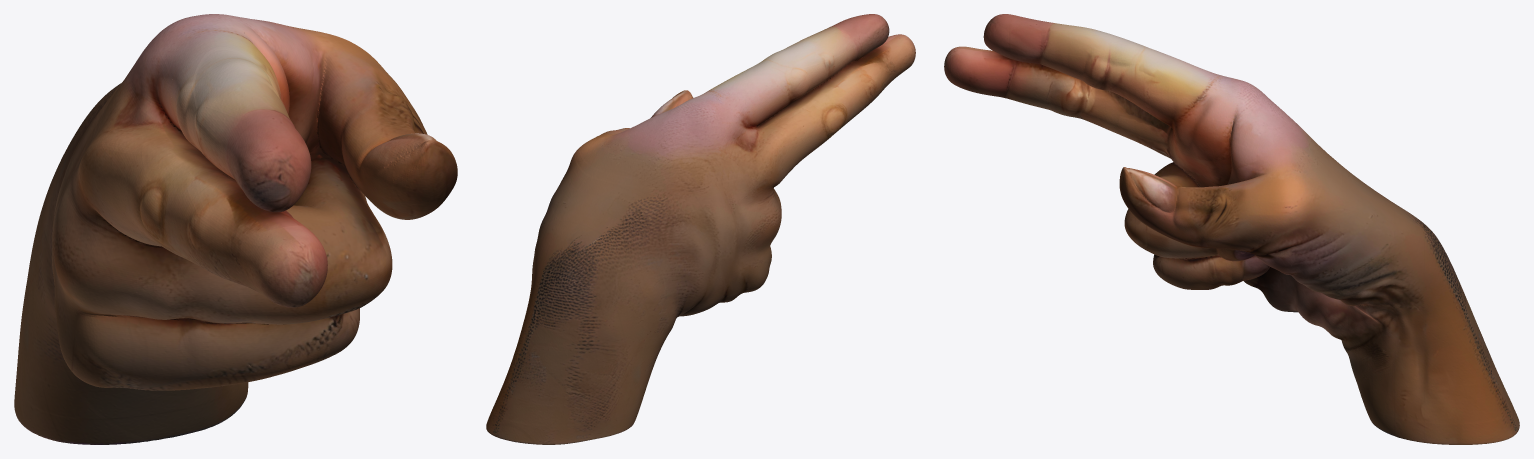
Rendered from letter_H.glb.
3 renders of one model, left to right at view 1: azimuth 30°, elevation 25°; view 2: azimuth 150°, elevation 25°; view 3: azimuth 270°, elevation 25°, orthographic. The views are drawn at different scales.
Parts seen in each view (by area): view 1: tripo_node_4cd5e340-8335-44ec-835a-3cc7ef16bf48; view 2: tripo_node_4cd5e340-8335-44ec-835a-3cc7ef16bf48; view 3: tripo_node_4cd5e340-8335-44ec-835a-3cc7ef16bf48.
Boxes of the visible parts, <box> form: tripo_node_4cd5e340-8335-44ec-835a-3cc7ef16bf48: <box>14,14,457,444</box>; tripo_node_4cd5e340-8335-44ec-835a-3cc7ef16bf48: <box>486,14,915,444</box>; tripo_node_4cd5e340-8335-44ec-835a-3cc7ef16bf48: <box>944,14,1519,444</box>.
Size of the model in its own units: 0.4608 by 0.6395 by 1.
1 material, 1 textured.
